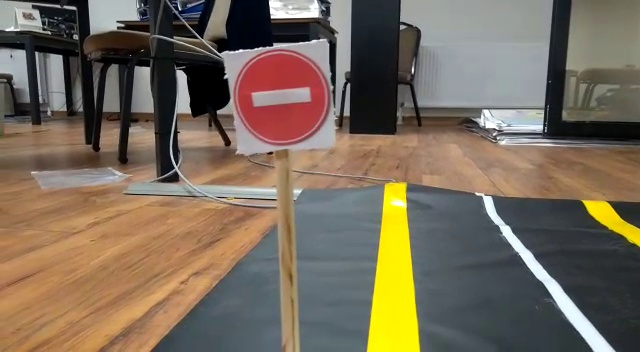girisi_olmayan_yol: (227, 49, 334, 141)
